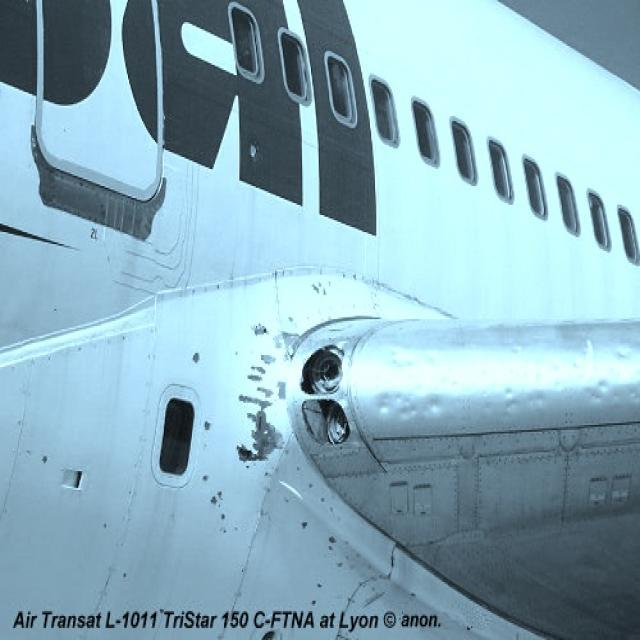dent: (375, 343, 640, 431)
